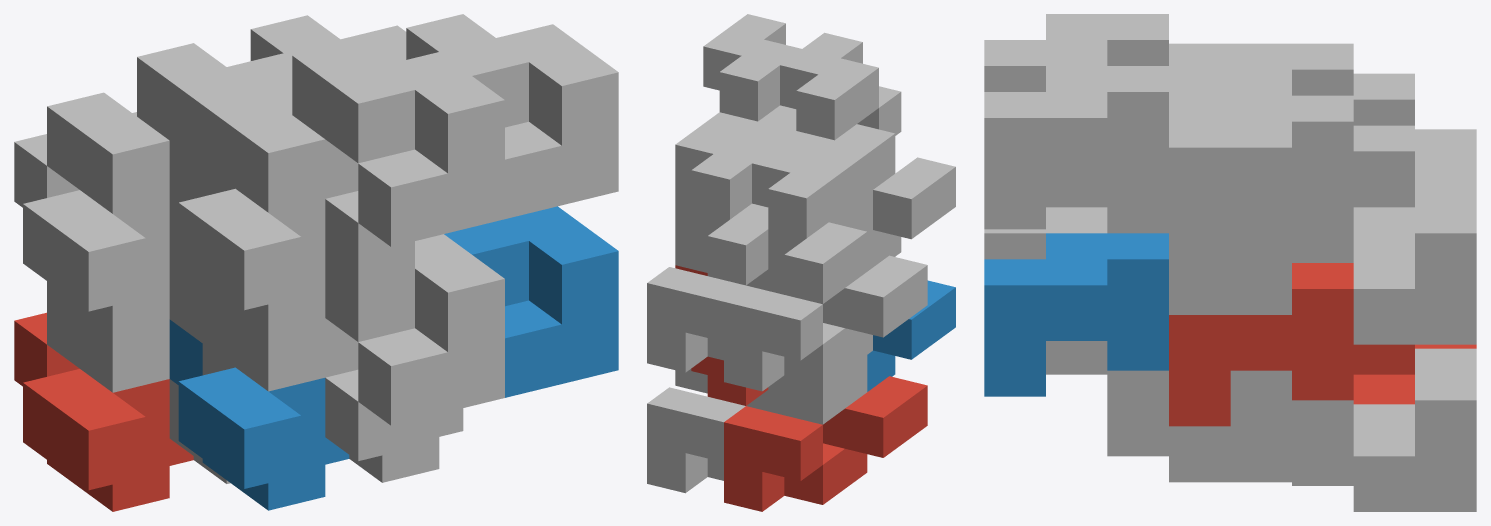
Rendered from tiling.obj.
3 renders of one model, left to right at view 1: azimuth 30°, elevation 25°; view 2: azimuth 150°, elevation 25°; view 3: azimuth 270°, elevation 25°, orthographic. The views are drawn at different scales.
Parts seen in each view (by area): view 1: copy_2_domain_4, copy_2_domain_2, copy_2_domain_8, copy_2_domain_3, copy_2_domain_6, copy_1_domain_1, copy_1_domain_3, copy_1_domain_2, copy_1_domain_4, copy_2_domain_1, copy_1_domain_6, copy_1_domain_8 (+3 smaller); view 2: copy_1_domain_1, copy_1_domain_3, copy_2_domain_3, copy_2_domain_4, copy_2_domain_7, copy_2_domain_8, copy_1_domain_7, copy_1_domain_5, copy_1_domain_4, copy_1_domain_2, copy_2_domain_1, copy_1_domain_8 (+2 smaller); view 3: copy_2_domain_7, copy_2_domain_8, copy_2_domain_6, copy_1_domain_5, copy_2_domain_5, copy_1_domain_7, copy_1_domain_6, copy_1_domain_8, copy_2_domain_3, copy_2_domain_4, copy_1_domain_3, copy_2_domain_2 (+1 smaller).
Boxes of the visible parts, bbox=[...] form: copy_2_domain_4: bbox=[202, 42, 504, 246]; copy_2_domain_2: bbox=[202, 234, 504, 425]; copy_2_domain_8: bbox=[406, 14, 618, 218]; copy_2_domain_3: bbox=[47, 43, 292, 213]; copy_2_domain_6: bbox=[444, 206, 618, 397]; copy_1_domain_1: bbox=[14, 312, 193, 511]; copy_1_domain_3: bbox=[14, 134, 169, 332]; copy_1_domain_2: bbox=[169, 319, 349, 510]; copy_1_domain_4: bbox=[169, 141, 325, 331]; copy_2_domain_1: bbox=[47, 260, 234, 392]; copy_1_domain_6: bbox=[325, 369, 463, 482]; copy_1_domain_8: bbox=[325, 191, 414, 282]; copy_1_domain_1: bbox=[724, 376, 927, 511]; copy_1_domain_3: bbox=[724, 255, 927, 391]; copy_2_domain_3: bbox=[752, 131, 872, 304]; copy_2_domain_4: bbox=[780, 32, 901, 205]; copy_2_domain_7: bbox=[675, 112, 773, 285]; copy_2_domain_8: bbox=[703, 14, 801, 146]; copy_1_domain_7: bbox=[647, 267, 784, 372]; copy_1_domain_5: bbox=[647, 387, 784, 493]; copy_1_domain_4: bbox=[829, 157, 955, 271]; copy_1_domain_2: bbox=[867, 280, 955, 391]; copy_2_domain_1: bbox=[768, 333, 872, 424]; copy_1_domain_8: bbox=[675, 185, 707, 272]; copy_2_domain_7: bbox=[1169, 95, 1414, 259]; copy_2_domain_8: bbox=[984, 66, 1230, 229]; copy_2_domain_6: bbox=[984, 233, 1168, 396]; copy_1_domain_5: bbox=[1292, 348, 1476, 511]; copy_2_domain_5: bbox=[1169, 263, 1414, 426]; copy_1_domain_7: bbox=[1292, 181, 1476, 344]; copy_1_domain_6: bbox=[1046, 341, 1291, 482]; copy_1_domain_8: bbox=[1046, 173, 1291, 314]; copy_2_domain_3: bbox=[1169, 43, 1414, 125]; copy_2_domain_4: bbox=[984, 14, 1230, 91]; copy_1_domain_3: bbox=[1353, 129, 1476, 236]; copy_2_domain_2: bbox=[984, 207, 1107, 259].
Bounding box in the file's own units: 7 × 8 × 8.
